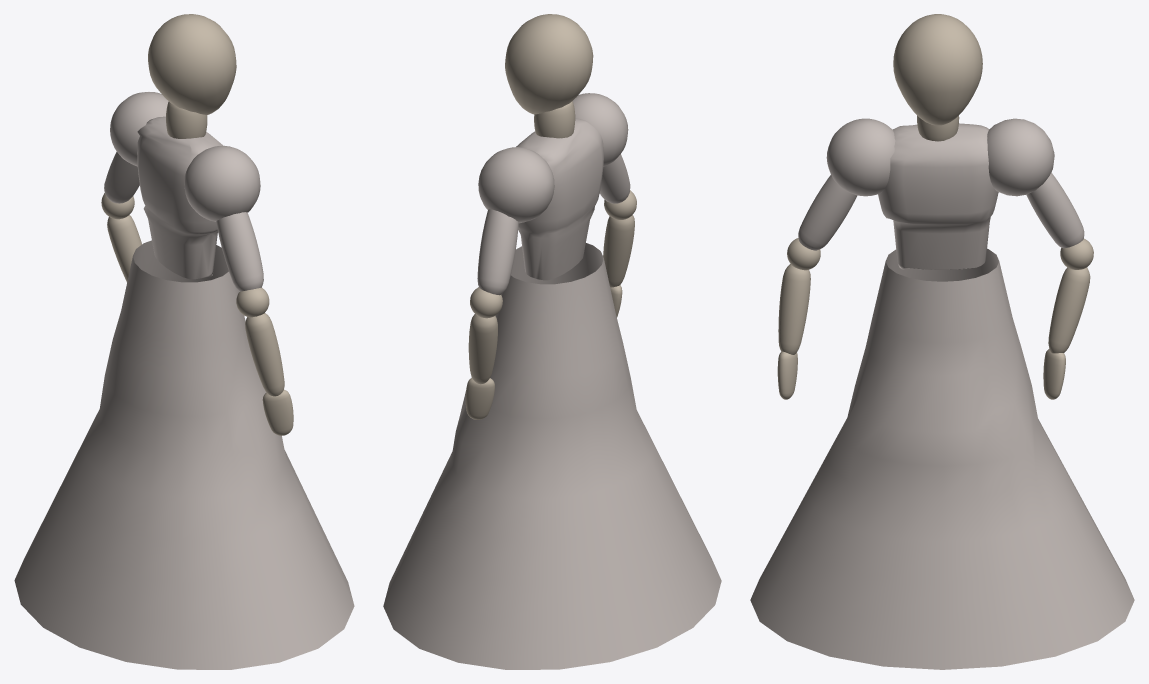
The model's file is figure - charm.fbx.
3 views of the same model, side by side, from view 1: azimuth 30°, elevation 25°; view 2: azimuth 150°, elevation 25°; view 3: azimuth 270°, elevation 25° (orthographic).
Parts seen in each view (by area): view 1: pCone2; view 2: pCone2; view 3: pCone2.
Boxes of the visible parts, x1,y1,x2,y2 form: pCone2: (14, 14, 354, 669); pCone2: (383, 14, 721, 669); pCone2: (750, 14, 1134, 669).
Size of the model in its own units: 10.34 by 20.16 by 12.03.
